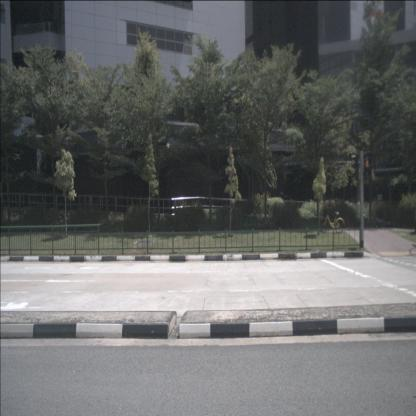vehicle-bicycle: (320, 205, 345, 233)
